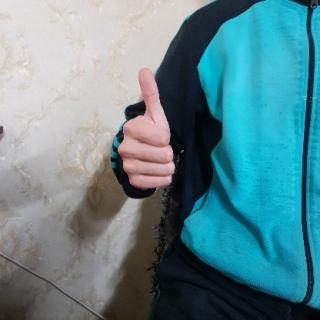ALIF: (115, 66, 177, 198)
